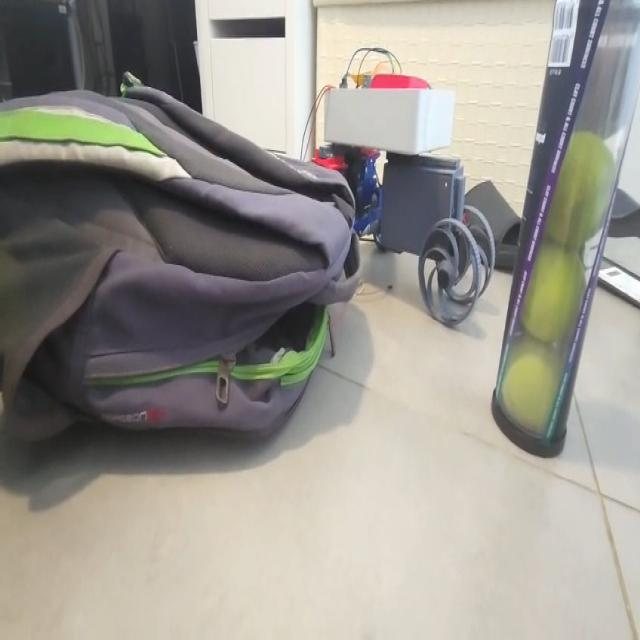Robot: (312, 69, 496, 329)
